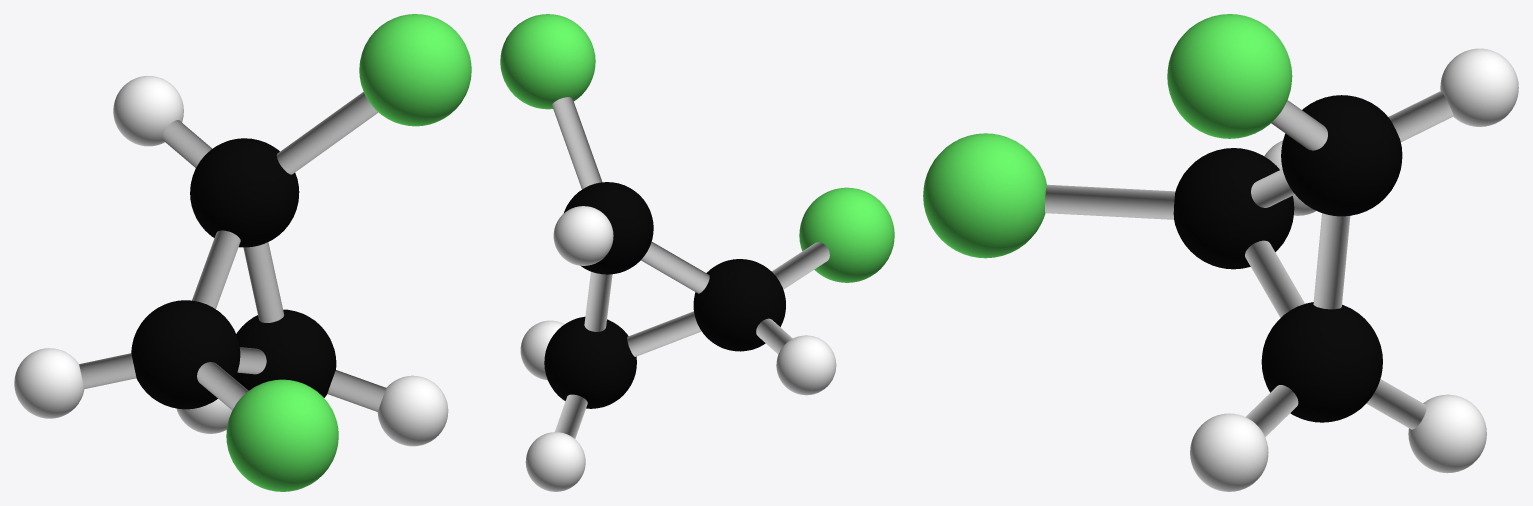
Rendered from 1,2-dichloropropane.gltf.
3 renders of one model, left to right at view 1: azimuth 30°, elevation 25°; view 2: azimuth 150°, elevation 25°; view 3: azimuth 270°, elevation 25°, orthographic. The views are drawn at different scales.
Visible parts, largest first — view 1: 1,2-dichloropropane.sdf; view 2: 1,2-dichloropropane.sdf; view 3: 1,2-dichloropropane.sdf.
Boxes of the visible parts, left/top/right/bottom form: 1,2-dichloropropane.sdf: left=14, top=14, right=471, bottom=491; 1,2-dichloropropane.sdf: left=500, top=14, right=894, bottom=491; 1,2-dichloropropane.sdf: left=923, top=14, right=1518, bottom=491.
Size of the model in its own units: 3.72 by 3.92 by 4.17.
